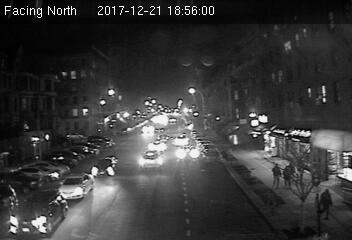car: (9, 191, 67, 235), (58, 174, 93, 201), (91, 156, 118, 176), (138, 151, 164, 170), (176, 145, 199, 161), (147, 140, 169, 152), (173, 135, 191, 145)
